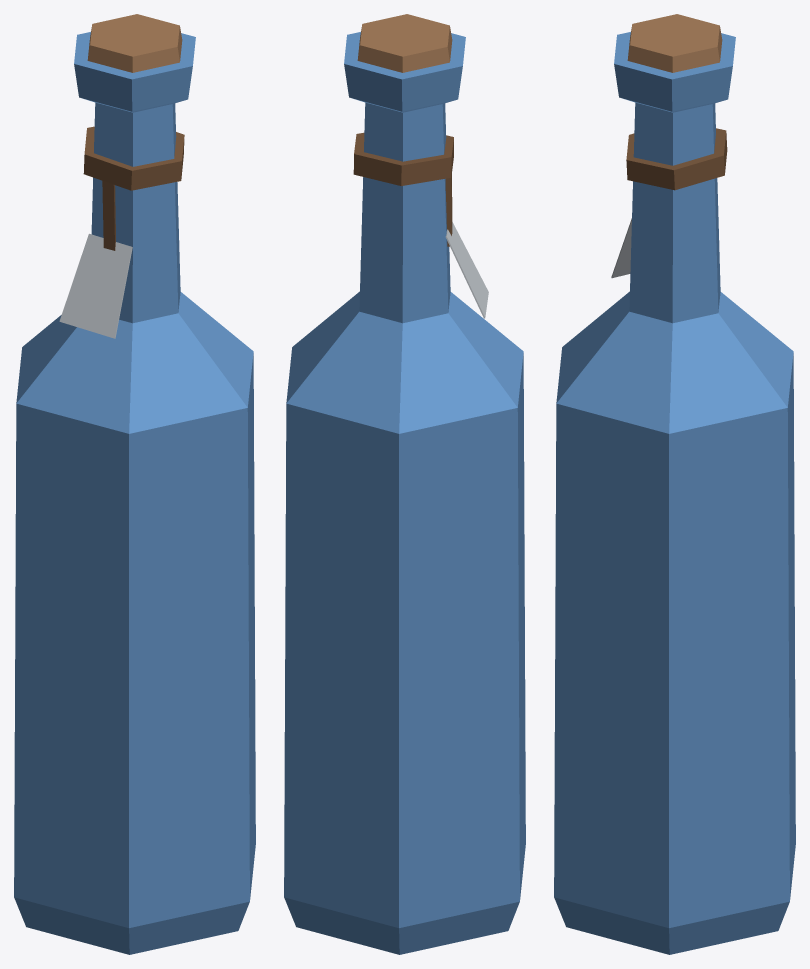
Rendered from Blue_Potion_14(Label).fbx.
The picture shows the model from 3 angles, left to right: view 1: azimuth 30°, elevation 25°; view 2: azimuth 150°, elevation 25°; view 3: azimuth 270°, elevation 25°; orthographic projection.
Parts seen in each view (by area): view 1: Blue_Potion_14(Label); view 2: Blue_Potion_14(Label); view 3: Blue_Potion_14(Label).
Boxes of the visible parts, left/top/right/bottom form: Blue_Potion_14(Label): left=14, top=14, right=255, bottom=954; Blue_Potion_14(Label): left=284, top=14, right=525, bottom=954; Blue_Potion_14(Label): left=554, top=14, right=795, bottom=954.
Size of the model in its own units: 13.19 by 46.35 by 11.71.
